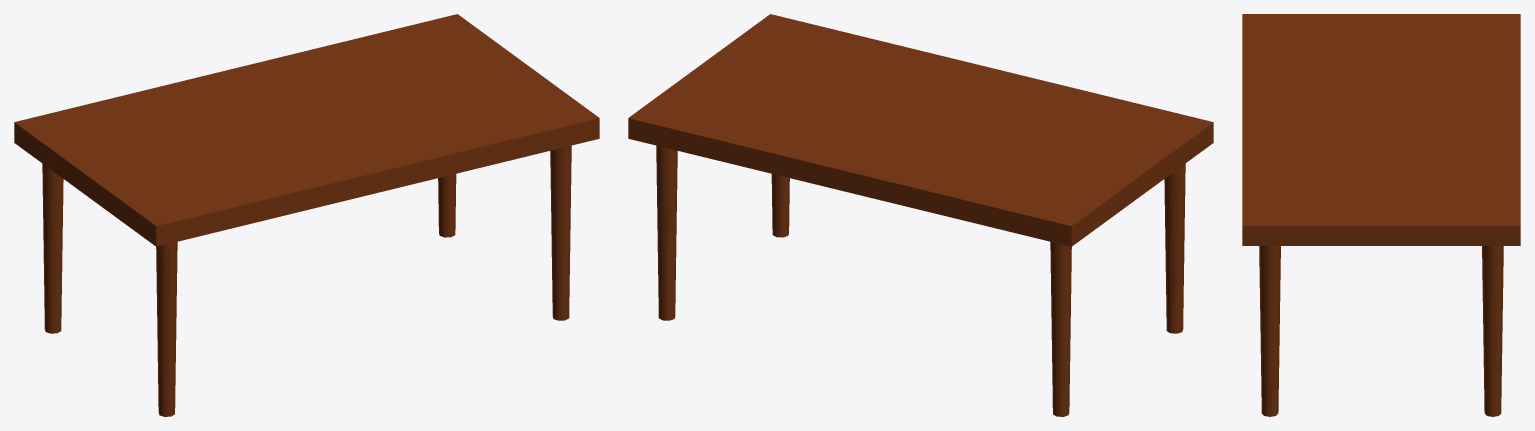
Rendered from interior_table_01.glb.
The picture shows the model from 3 angles, left to right: view 1: azimuth 30°, elevation 25°; view 2: azimuth 150°, elevation 25°; view 3: azimuth 270°, elevation 25°; orthographic projection. The views are drawn at different scales.
Visible parts, largest first — view 1: interior_table_01; view 2: interior_table_01; view 3: interior_table_01.
Boxes of the visible parts, bbox=[...] form: interior_table_01: bbox=[14, 14, 599, 416]; interior_table_01: bbox=[628, 14, 1213, 416]; interior_table_01: bbox=[1242, 14, 1520, 416].
Size of the model in its own units: 1.8 by 0.79 by 1.
